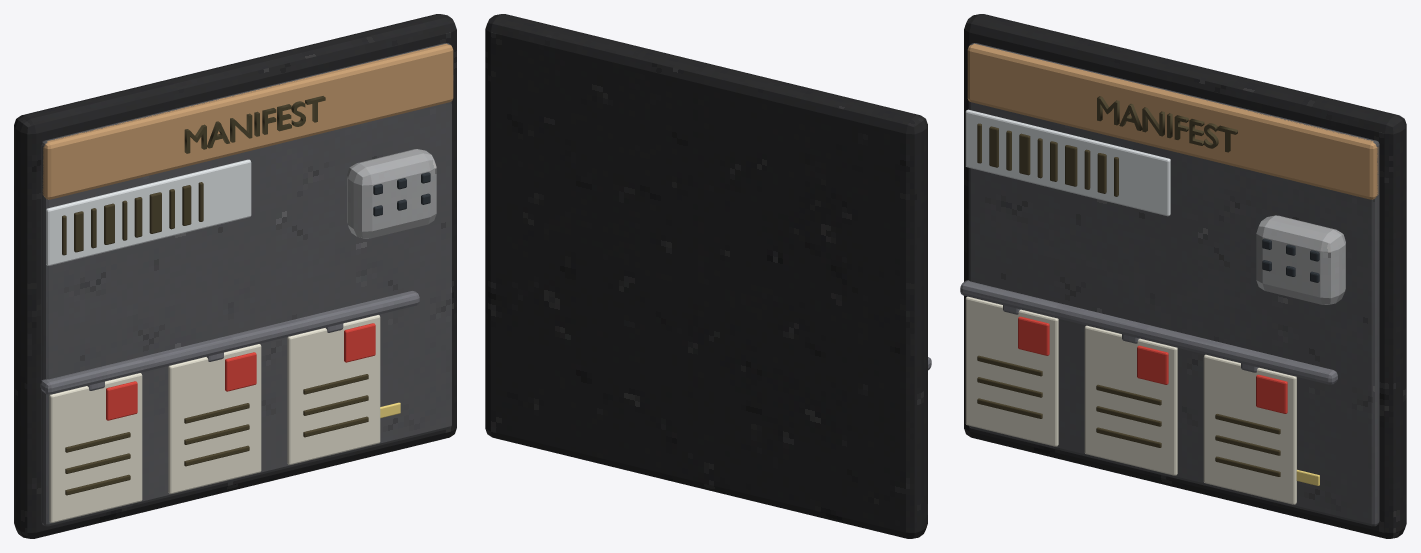
Rendered from decor_cargo_manifest_board.glb.
3 views of the same model, side by side, from view 1: azimuth 30°, elevation 25°; view 2: azimuth 150°, elevation 25°; view 3: azimuth 330°, elevation 25° (orthographic).
Parts seen in each view (by area): view 1: DEC_CargoManifestBoard__Board_Face, DEC_CargoManifestBoard__Board_Back, DEC_CargoManifestBoard__Board_Header, DEC_CargoManifestBoard__Manifest_Form_3, DEC_CargoManifestBoard__Manifest_Form_2, DEC_CargoManifestBoard__Manifest_Form_1, DEC_CargoManifestBoard__Barcode_Plate, DEC_CargoManifestBoard__Intercom, DEC_CargoManifestBoard__Form_Rail, DEC_CargoManifestBoard__Board_Title, DEC_CargoManifestBoard__Form_Stamp_2, DEC_CargoManifestBoard__Form_Stamp_3 (+2 smaller); view 2: DEC_CargoManifestBoard__Board_Back; view 3: DEC_CargoManifestBoard__Board_Face, DEC_CargoManifestBoard__Board_Back, DEC_CargoManifestBoard__Board_Header, DEC_CargoManifestBoard__Manifest_Form_2, DEC_CargoManifestBoard__Manifest_Form_3, DEC_CargoManifestBoard__Manifest_Form_1, DEC_CargoManifestBoard__Barcode_Plate, DEC_CargoManifestBoard__Intercom, DEC_CargoManifestBoard__Form_Rail, DEC_CargoManifestBoard__Board_Title, DEC_CargoManifestBoard__Form_Stamp_2, DEC_CargoManifestBoard__Form_Stamp_3 (+1 smaller).
Boxes of the visible parts, box(x1,y1,x2,y2) form: DEC_CargoManifestBoard__Board_Face: box(41, 43, 451, 526); DEC_CargoManifestBoard__Board_Back: box(14, 14, 456, 538); DEC_CargoManifestBoard__Board_Header: box(42, 43, 453, 199); DEC_CargoManifestBoard__Manifest_Form_3: box(287, 315, 380, 464); DEC_CargoManifestBoard__Manifest_Form_2: box(168, 344, 261, 493); DEC_CargoManifestBoard__Manifest_Form_1: box(49, 373, 142, 522); DEC_CargoManifestBoard__Barcode_Plate: box(46, 159, 251, 265); DEC_CargoManifestBoard__Intercom: box(347, 149, 436, 238); DEC_CargoManifestBoard__Form_Rail: box(40, 291, 419, 394); DEC_CargoManifestBoard__Board_Title: box(184, 96, 325, 153); DEC_CargoManifestBoard__Form_Stamp_2: box(225, 352, 256, 391); DEC_CargoManifestBoard__Form_Stamp_3: box(344, 323, 375, 362); DEC_CargoManifestBoard__Board_Back: box(485, 14, 927, 538); DEC_CargoManifestBoard__Board_Face: box(968, 43, 1379, 526); DEC_CargoManifestBoard__Board_Back: box(964, 14, 1406, 538); DEC_CargoManifestBoard__Board_Header: box(967, 43, 1378, 199); DEC_CargoManifestBoard__Manifest_Form_2: box(1084, 325, 1177, 475); DEC_CargoManifestBoard__Manifest_Form_3: box(1203, 354, 1296, 504); DEC_CargoManifestBoard__Manifest_Form_1: box(965, 296, 1058, 446); DEC_CargoManifestBoard__Barcode_Plate: box(965, 109, 1170, 216); DEC_CargoManifestBoard__Intercom: box(1256, 215, 1345, 304); DEC_CargoManifestBoard__Form_Rail: box(960, 280, 1337, 384); DEC_CargoManifestBoard__Board_Title: box(1097, 96, 1237, 152); DEC_CargoManifestBoard__Form_Stamp_2: box(1137, 345, 1168, 384); DEC_CargoManifestBoard__Form_Stamp_3: box(1256, 374, 1287, 413).
Bounding box in the file's own units: 1.28 × 1.18 × 0.2035.
11 materials, 4 textured.
